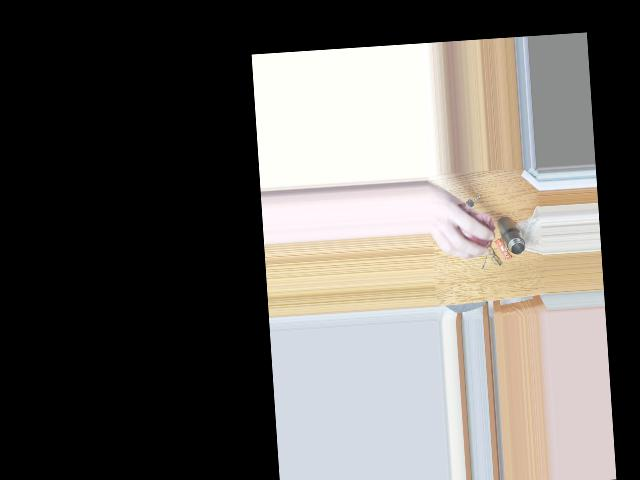onion: (452, 204, 488, 251)
